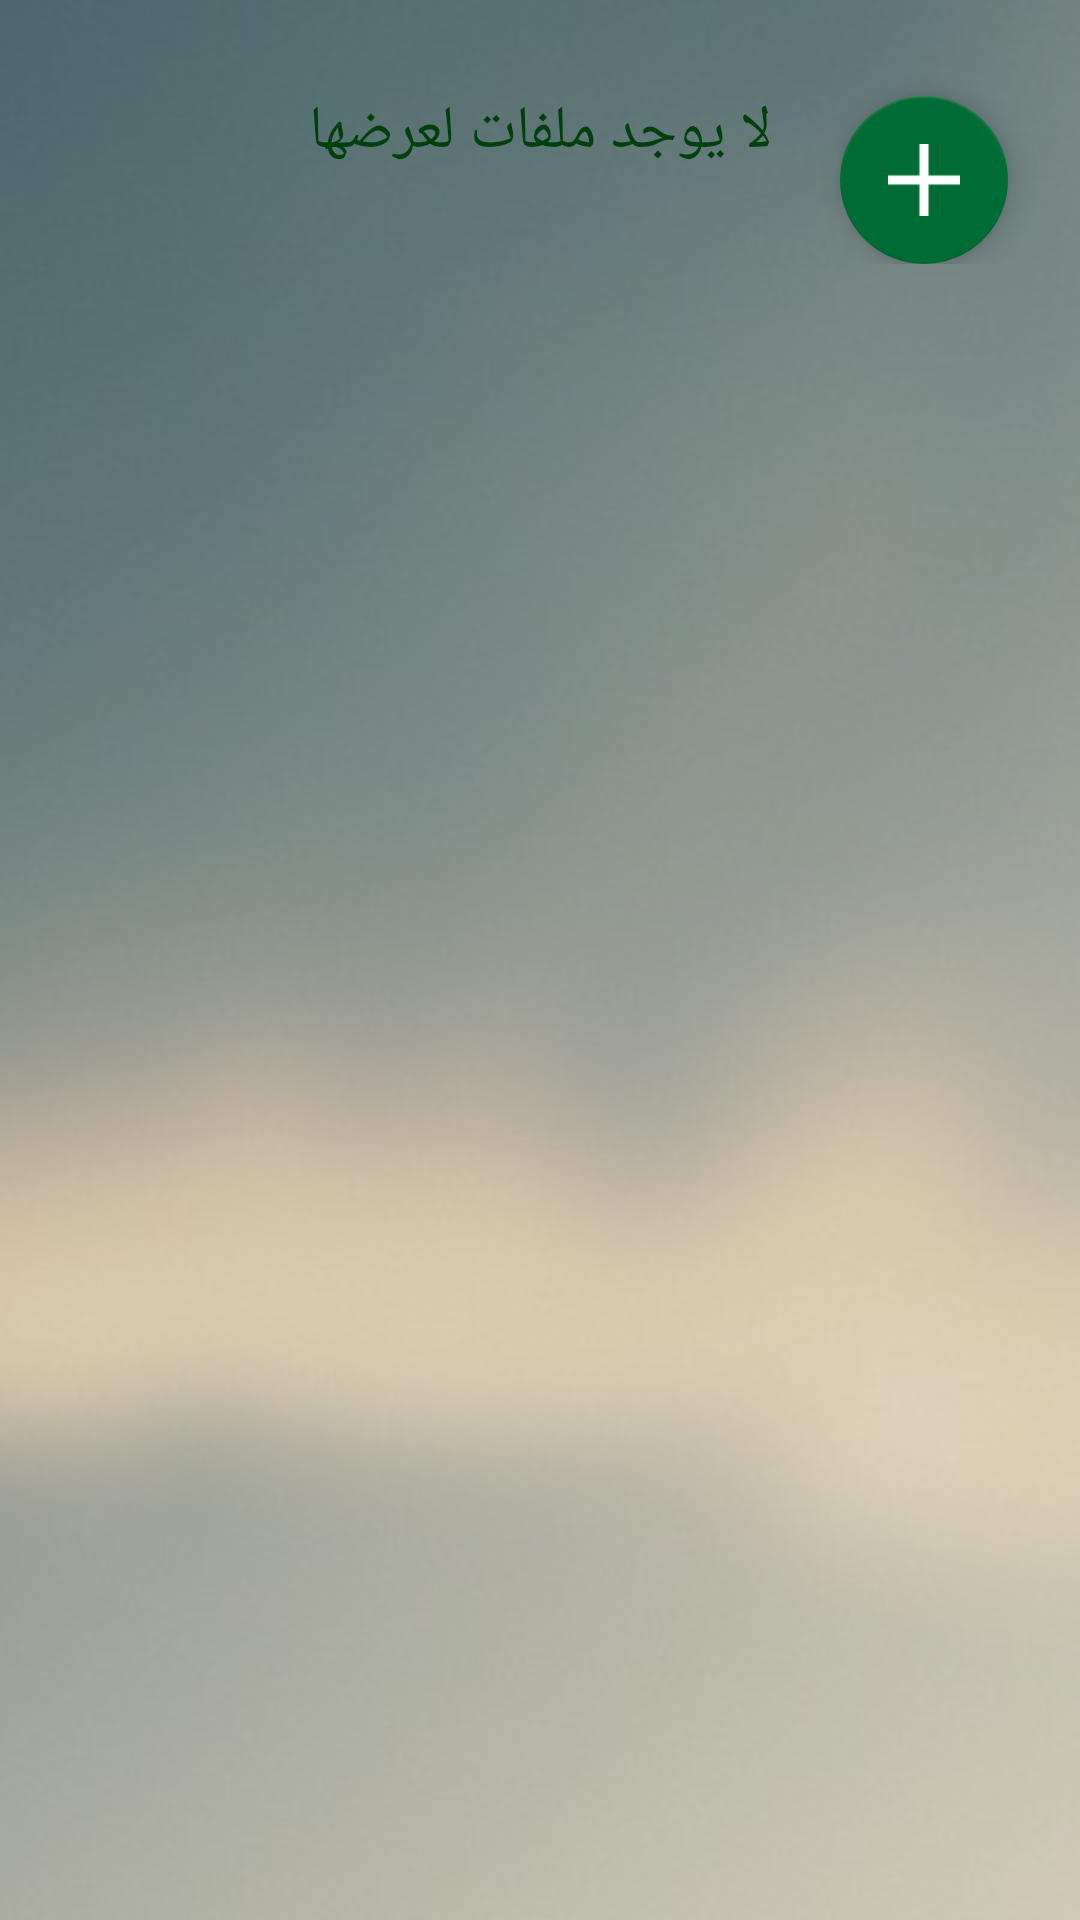

Screen size 1080*1920. Icon name, then its box in pixels as box=[x1, y1, x2, y2]:
pluss: box=[840, 96, 1008, 264]
